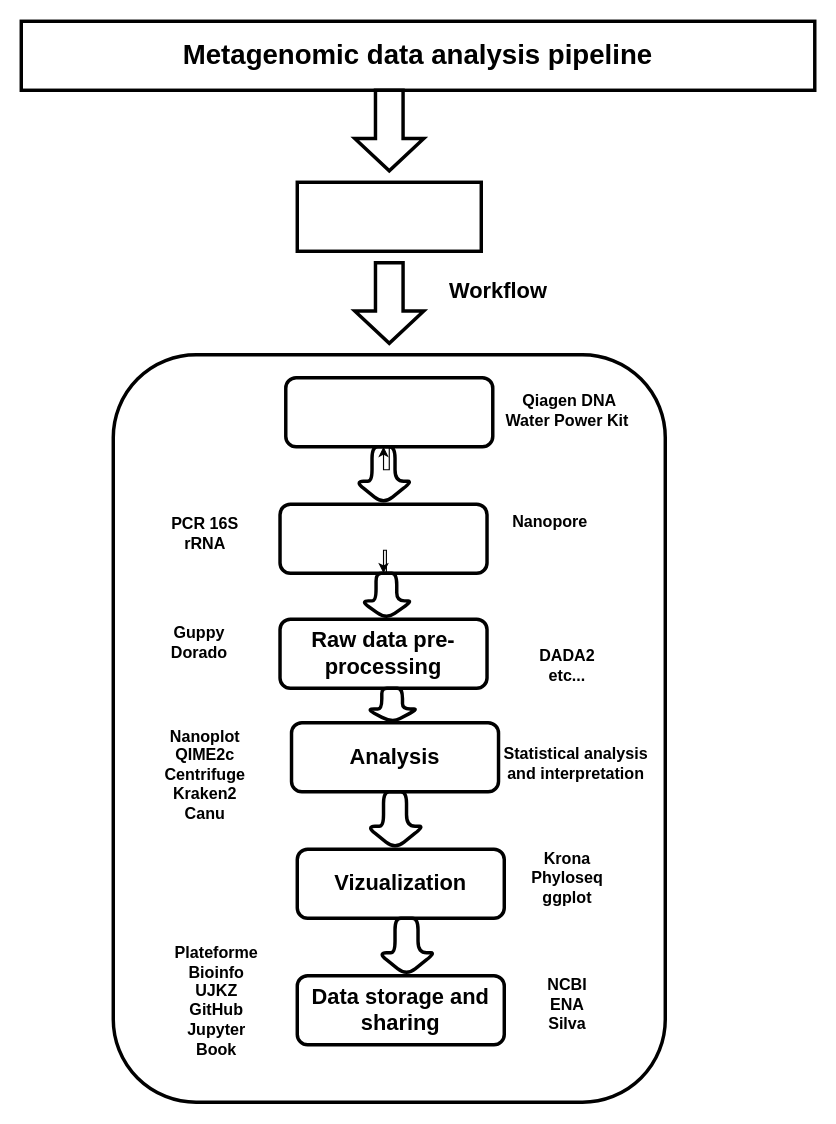
This 836x1124 diagram has some shape labels left out. Each missing label, with the box of its shape:
Amplicon Sequencing: (295, 180, 482, 252)
Sampling & DNA extraction: (283, 375, 494, 448)
Sequencing: (278, 502, 488, 574)
